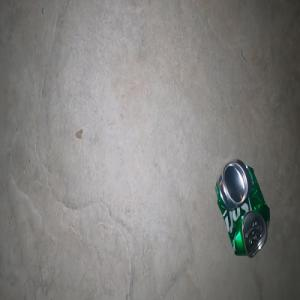SodaCan: (215, 159, 270, 257)
